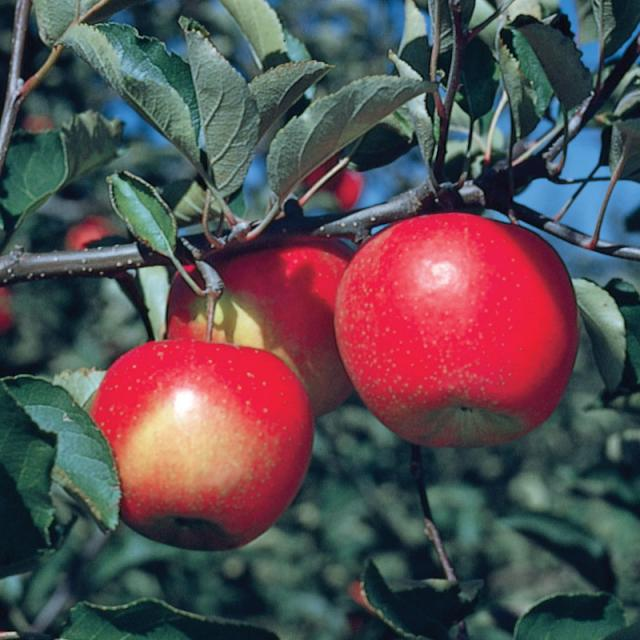apple: (340, 207, 571, 445), (81, 341, 312, 554), (162, 238, 369, 422)
